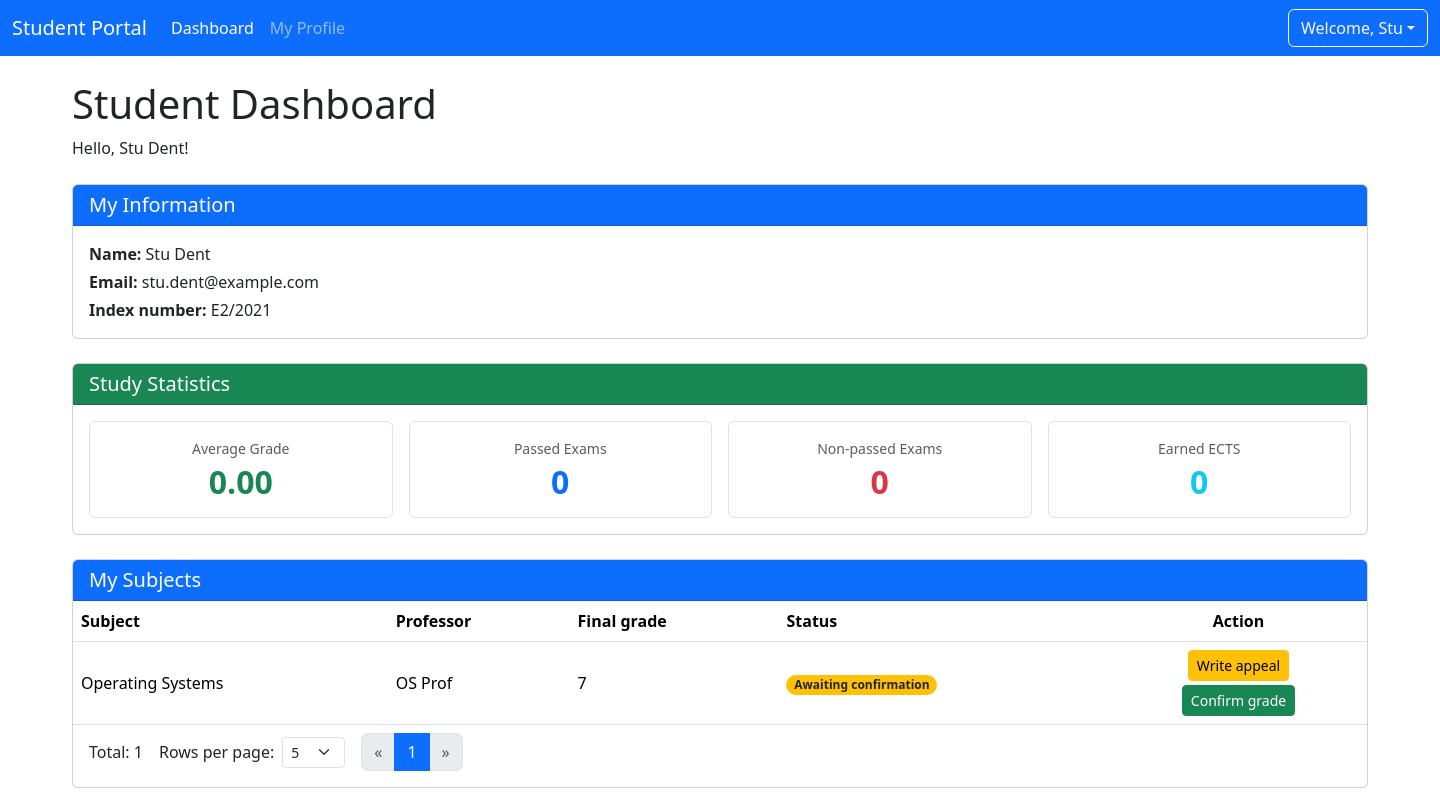
Test case: Student appeals (§5.5 + §5.8) › when the textarea is empty then the Submit appeal button is disabled
Click the button "Write appeal": coordinates (1239, 666) [1188, 650, 1289, 681]
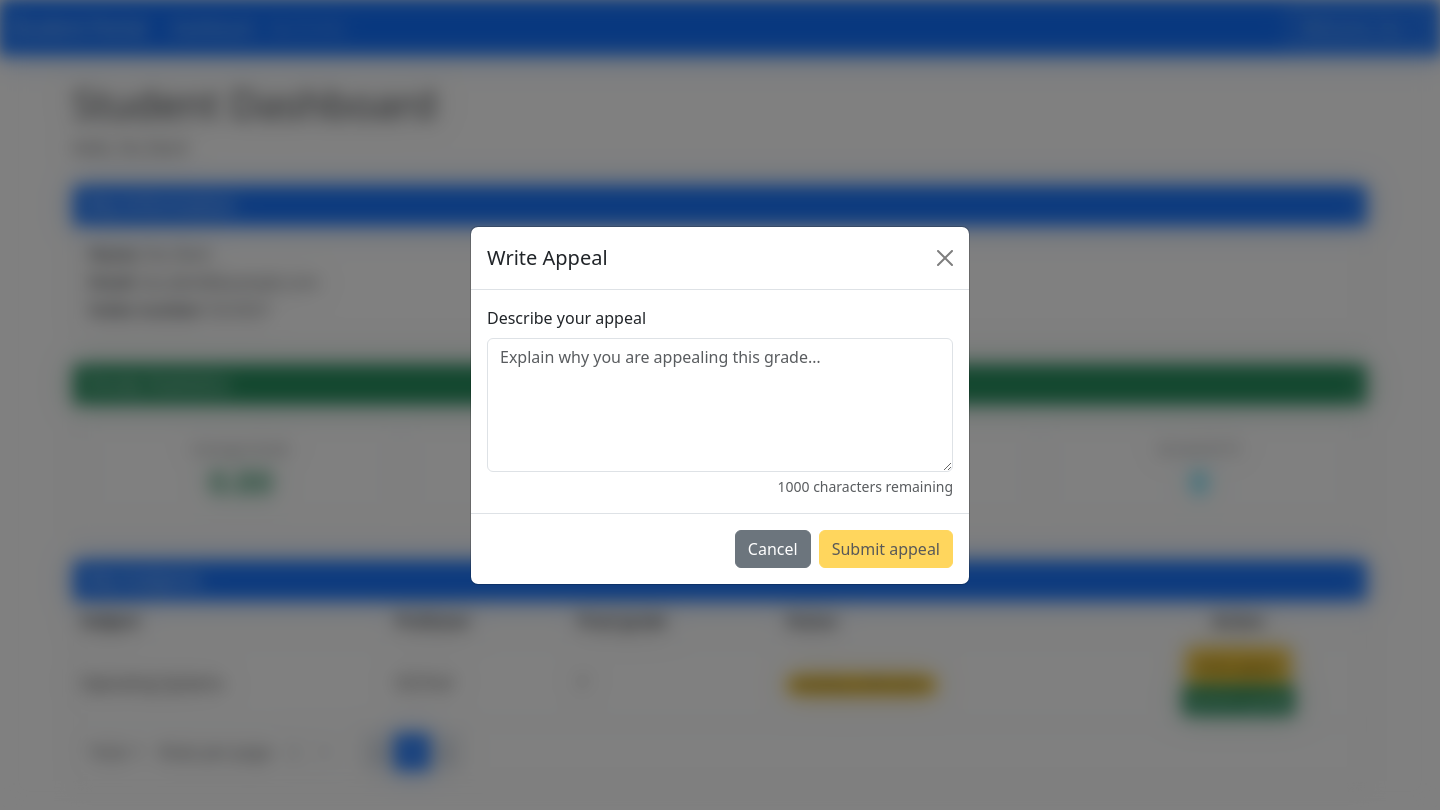
Now the button "Submit appeal" is disabled, box [819, 530, 953, 568]
